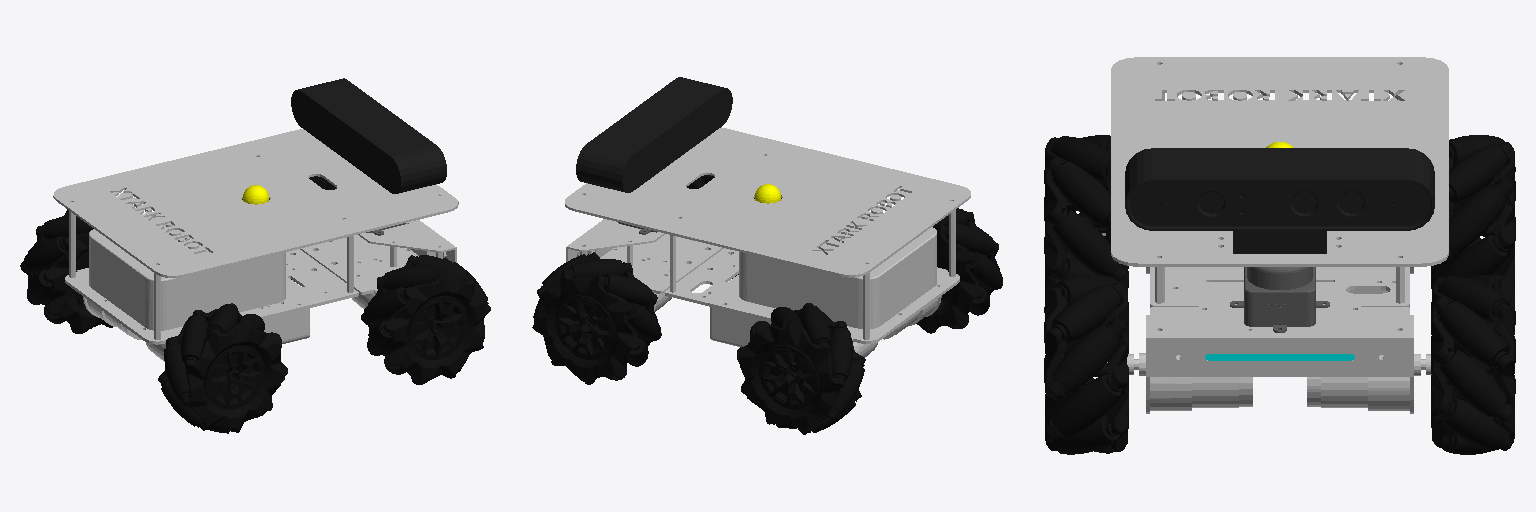
The robot description file, URDF, robot "tarkbot_robot":
<?xml version="1.0" encoding="utf-8"?>

<robot name="tarkbot_robot">

    <!-- 机器人底部中心原点 -->
    <link name="base_footprint">
        <visual>
            <geometry>
                <sphere radius="0.001" />
            </geometry>
        </visual>
    </link>

    <!-- 机器人底盘 -->
    <link name="base_link">
        <visual>
            <geometry>
                <mesh filename="package://tarkbot_description/meshes/base_r20_fwl2.stl" />
            </geometry>
            <origin xyz="0 0 0" rpy="0 0 0" />
            <material name="base_color">
                <!-- <color rgba="0.000 0.500 0.500 1" /> -->
                <!-- <color rgba="0.000 0.000 1.000 1" /> -->
                <!-- <color rgba="1.000 0.500 0.000 1" /> -->
                <color rgba="0.800 0.800 0.800 1" />
            </material>
        </visual>
    </link>    

    <!-- 机器人轮子 -->
    <link name="wheel_fl">
        <visual>
            <geometry>
                <mesh filename="package://tarkbot_description/meshes/wheel/m100l.stl" />
            </geometry>
            <origin xyz="0 0 0" rpy="0 0 0" />
            <material name="wheel_color">
                <color rgba="0.1 0.1 0.1 1" />
            </material>
        </visual>
    </link>  

    <link name="wheel_fr">
        <visual>
            <geometry>
                <mesh filename="package://tarkbot_description/meshes/wheel/m100r.stl" />
            </geometry>
            <origin xyz="0 0 0" rpy="0 0 0" />
            <material name="wheel_color">
                <color rgba="0.1 0.1 0.1 1" />
            </material>
        </visual>
    </link>  

    <link name="wheel_bl">
        <visual>
            <geometry>
                <mesh filename="package://tarkbot_description/meshes/wheel/m100r.stl" />
            </geometry>
            <origin xyz="0 0 0" rpy="0 0 0" />
            <material name="wheel_color">
                <color rgba="0.1 0.1 0.1 1" />
            </material>
        </visual>
    </link>  

    <link name="wheel_br">
        <visual>
            <geometry>
                <mesh filename="package://tarkbot_description/meshes/wheel/m100l.stl" />
            </geometry>
            <origin xyz="0 0 0" rpy="0 0 0" />
            <material name="wheel_color">
                <color rgba="0.1 0.1 0.1 1" />
            </material>
        </visual>
    </link>  

    <!-- 机器人雷达 -->
    <link name="laser_link">
        <visual>
            <geometry>
                <mesh filename="package://tarkbot_description/meshes/laser_d300.stl" />
            </geometry>
            <origin xyz="0 0 -0.028" rpy="0 0 0" />
            <material name="laser_color">
                <color rgba="0.4 0.4 0.4 1" />
            </material>
        </visual>
    </link> 

    <!-- 机器人摄像头 -->
    <link name="camera_link">
        <visual>
            <geometry>
                <mesh filename="package://tarkbot_description/meshes/depthcamera.stl" />
            </geometry>
            <origin xyz="-0.037 0 0" rpy="0 0 0" />
            <material name="camera_color">
                <color rgba="0.15 0.15 0.15 1" />
            </material>
        </visual>
    </link>

    <!-- 机器人IMU传感器 -->
    <link name="imu_link">
        <visual>
            <geometry>
                <sphere radius="0.010" />
            </geometry>
            <origin xyz="0 0 0" rpy="0 0 0" />
            <material name="imu_color">
                <color rgba="1 1 0 1" />
            </material>
        </visual>
    </link>

    <!-- 机器人前灯 -->
    <link name="light_link">
        <visual>
            <geometry>
                <mesh filename="package://tarkbot_description/meshes/light.stl" />
            </geometry>
            <origin xyz="0 0 0" rpy="0 0 0" />
            <material name="light_color">
                <color rgba="0.0 1.0 1.0 1" />
            </material>
        </visual>
    </link>

    <!-- 底盘与原点连接的关节 -->
    <joint name="baselink2footprint" type="fixed">
        <origin xyz="0 0 0.1255" rpy="0 0 0"/>
        <parent link="base_footprint" />
        <child  link="base_link" />
    </joint>

        <!-- 轮子到与底盘连接的关节 -->
    <joint name="wheelfl2base" type="fixed">
        <origin xyz="0.088 0.096 -0.079" rpy="0 0 1.57"/>
        <parent link="base_link" />
        <child  link="wheel_fl" />
    </joint>

    <joint name="wheelfr2base" type="fixed">
        <origin xyz="0.088 -0.096 -0.079" rpy="0 0 -1.57"/>
        <parent link="base_link" />
        <child  link="wheel_fr" />
    </joint>

    <joint name="wheelbl2base" type="fixed">
        <origin xyz="-0.088 0.096 -0.079" rpy="0 0 1.57"/>
        <parent link="base_link" />
        <child  link="wheel_bl" />
    </joint>

    <joint name="wheelbr2base" type="fixed">
        <origin xyz="-0.088 -0.096 -0.079" rpy="0 0 -1.57"/>
        <parent link="base_link" />
        <child  link="wheel_br" />
    </joint>

    <!-- 雷达到与底盘连接的关节 -->
    <joint name="laser2base" type="fixed">
        <origin xyz="0.1021 0 -0.0125" rpy="0 0 0"/>
        <parent link="base_link" />
        <child  link="laser_link" />
    </joint>

    <!-- 深度摄像头与底盘连接的关节 -->
    <joint name="camera2base" type="fixed">
        <origin xyz="0.115 0 0.0285" rpy="0 0 0"/>
        <parent link="base_link" />
        <child  link="camera_link" />
    </joint>

    <!-- IMU传感器与底盘连接的关节 -->
    <joint name="imu2base" type="fixed">
        <origin xyz="0 0 0" rpy="0 0 0"/>
        <parent link="base_link" />
        <child  link="imu_link" />
    </joint>

    <!-- 前灯与底盘连接的关节 -->
    <joint name="light2base" type="fixed">
        <origin xyz="0.132 0 -0.054 " rpy="0 0 0"/>
        <parent link="base_link" />
        <child  link="light_link" />
    </joint>

</robot>

--- Render facts (derived) ---
3 views of the same robot in one strip: view 1: azimuth 30°, elevation 25°; view 2: azimuth 150°, elevation 25°; view 3: azimuth 270°, elevation 25° (orthographic).
Robot: tarkbot_robot — 10 links, 9 joints (9 fixed); root link base_footprint; default pose: every joint at zero.
Visible links, largest first — view 1: base_link, wheel_br, wheel_fr, camera_link, wheel_bl; view 2: base_link, wheel_fl, wheel_bl, camera_link, wheel_br; view 3: base_link, camera_link, wheel_fl, wheel_fr, wheel_br, wheel_bl, laser_link, light_link.
Boxes of the visible links, box(x1,y1,x2,y2) form: base_link: box(53, 129, 458, 361); wheel_br: box(158, 303, 287, 433); wheel_fr: box(361, 255, 490, 384); camera_link: box(291, 78, 446, 193); wheel_bl: box(20, 209, 112, 333); base_link: box(565, 127, 970, 357); wheel_fl: box(532, 252, 661, 384); wheel_bl: box(737, 303, 865, 434); camera_link: box(576, 77, 732, 192); wheel_br: box(916, 208, 1002, 333); base_link: box(1102, 57, 1448, 413); camera_link: box(1125, 148, 1434, 253); wheel_fl: box(1431, 275, 1515, 454); wheel_fr: box(1044, 275, 1128, 454); wheel_br: box(1044, 135, 1128, 289); wheel_bl: box(1431, 135, 1515, 288); laser_link: box(1230, 267, 1329, 332); light_link: box(1205, 354, 1354, 360).
Size in the robot's own frame: 0.2719 by 0.2507 by 0.1705 metres.
8 mesh visuals loaded from 6 distinct referenced files (6 binary STL).